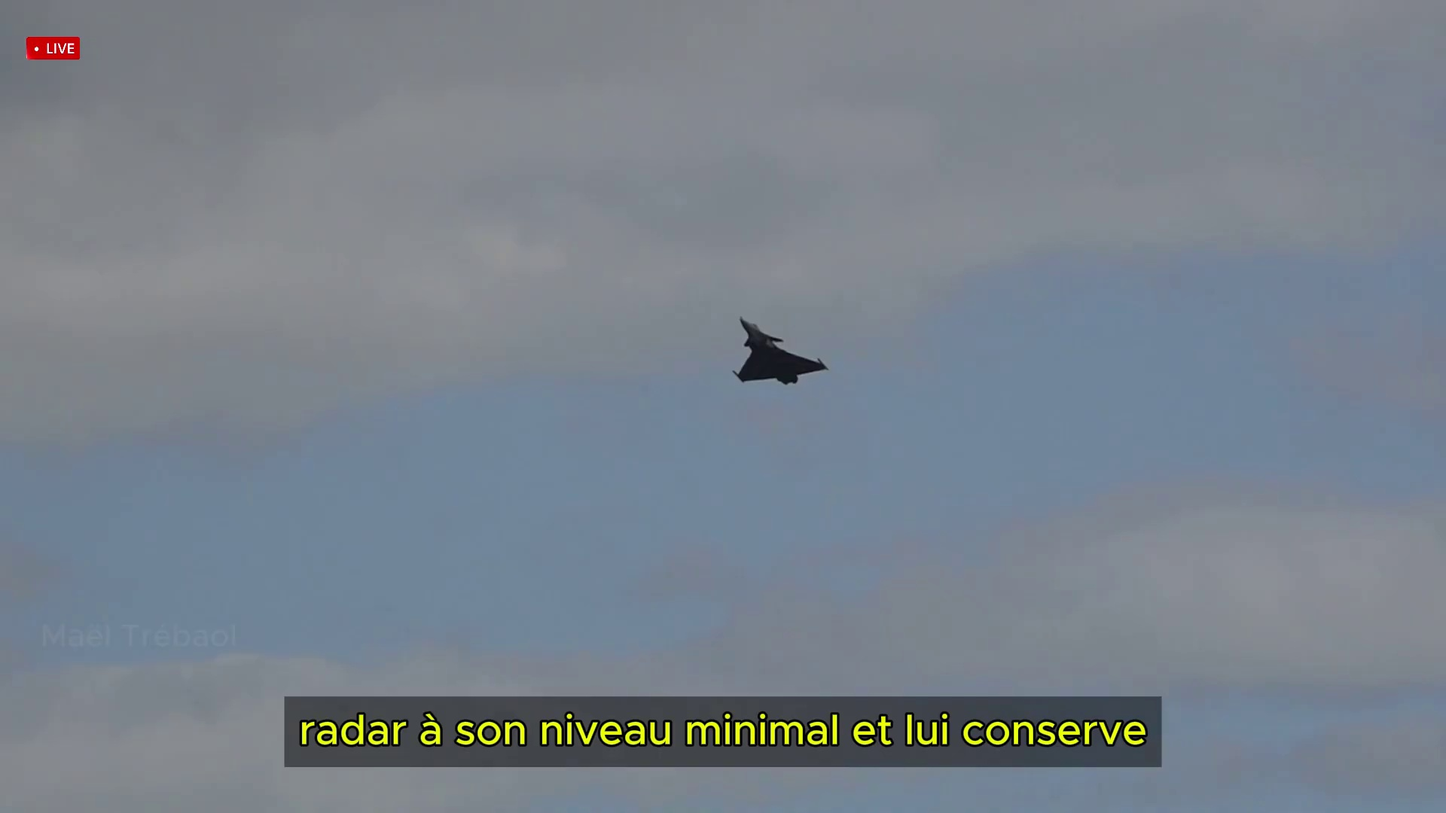Rafale: (730, 311, 832, 388)
